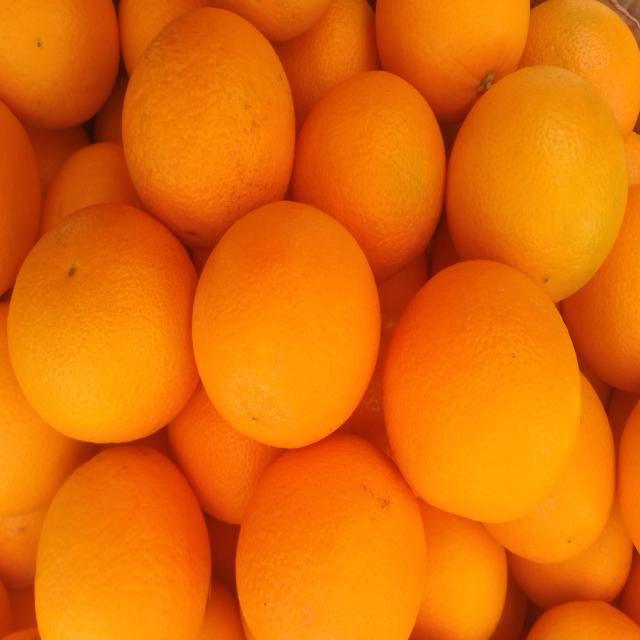orange: (383, 261, 580, 522), (193, 201, 380, 448), (8, 204, 197, 442), (446, 66, 627, 301), (122, 8, 295, 248), (237, 435, 425, 639), (35, 445, 210, 639), (291, 71, 445, 282), (486, 375, 615, 562), (0, 302, 90, 517), (376, 0, 529, 121), (340, 253, 428, 456), (520, 0, 639, 138), (167, 383, 282, 524), (563, 185, 639, 393), (0, 0, 119, 129), (274, 0, 380, 130), (508, 501, 632, 609), (411, 500, 507, 639), (38, 142, 143, 238), (0, 102, 41, 294), (338, 327, 392, 458), (118, 0, 211, 76), (211, 0, 330, 42), (25, 125, 89, 196), (527, 600, 639, 639), (378, 252, 429, 331), (0, 506, 48, 588), (618, 404, 640, 549), (197, 579, 245, 639), (205, 513, 239, 594), (489, 573, 527, 639), (94, 74, 128, 143), (576, 351, 613, 411), (608, 389, 639, 457), (430, 213, 460, 277), (131, 427, 176, 463), (620, 551, 639, 624), (8, 585, 36, 629), (439, 120, 462, 162), (625, 132, 639, 185), (0, 581, 13, 637), (191, 249, 212, 277), (3, 627, 40, 639)
